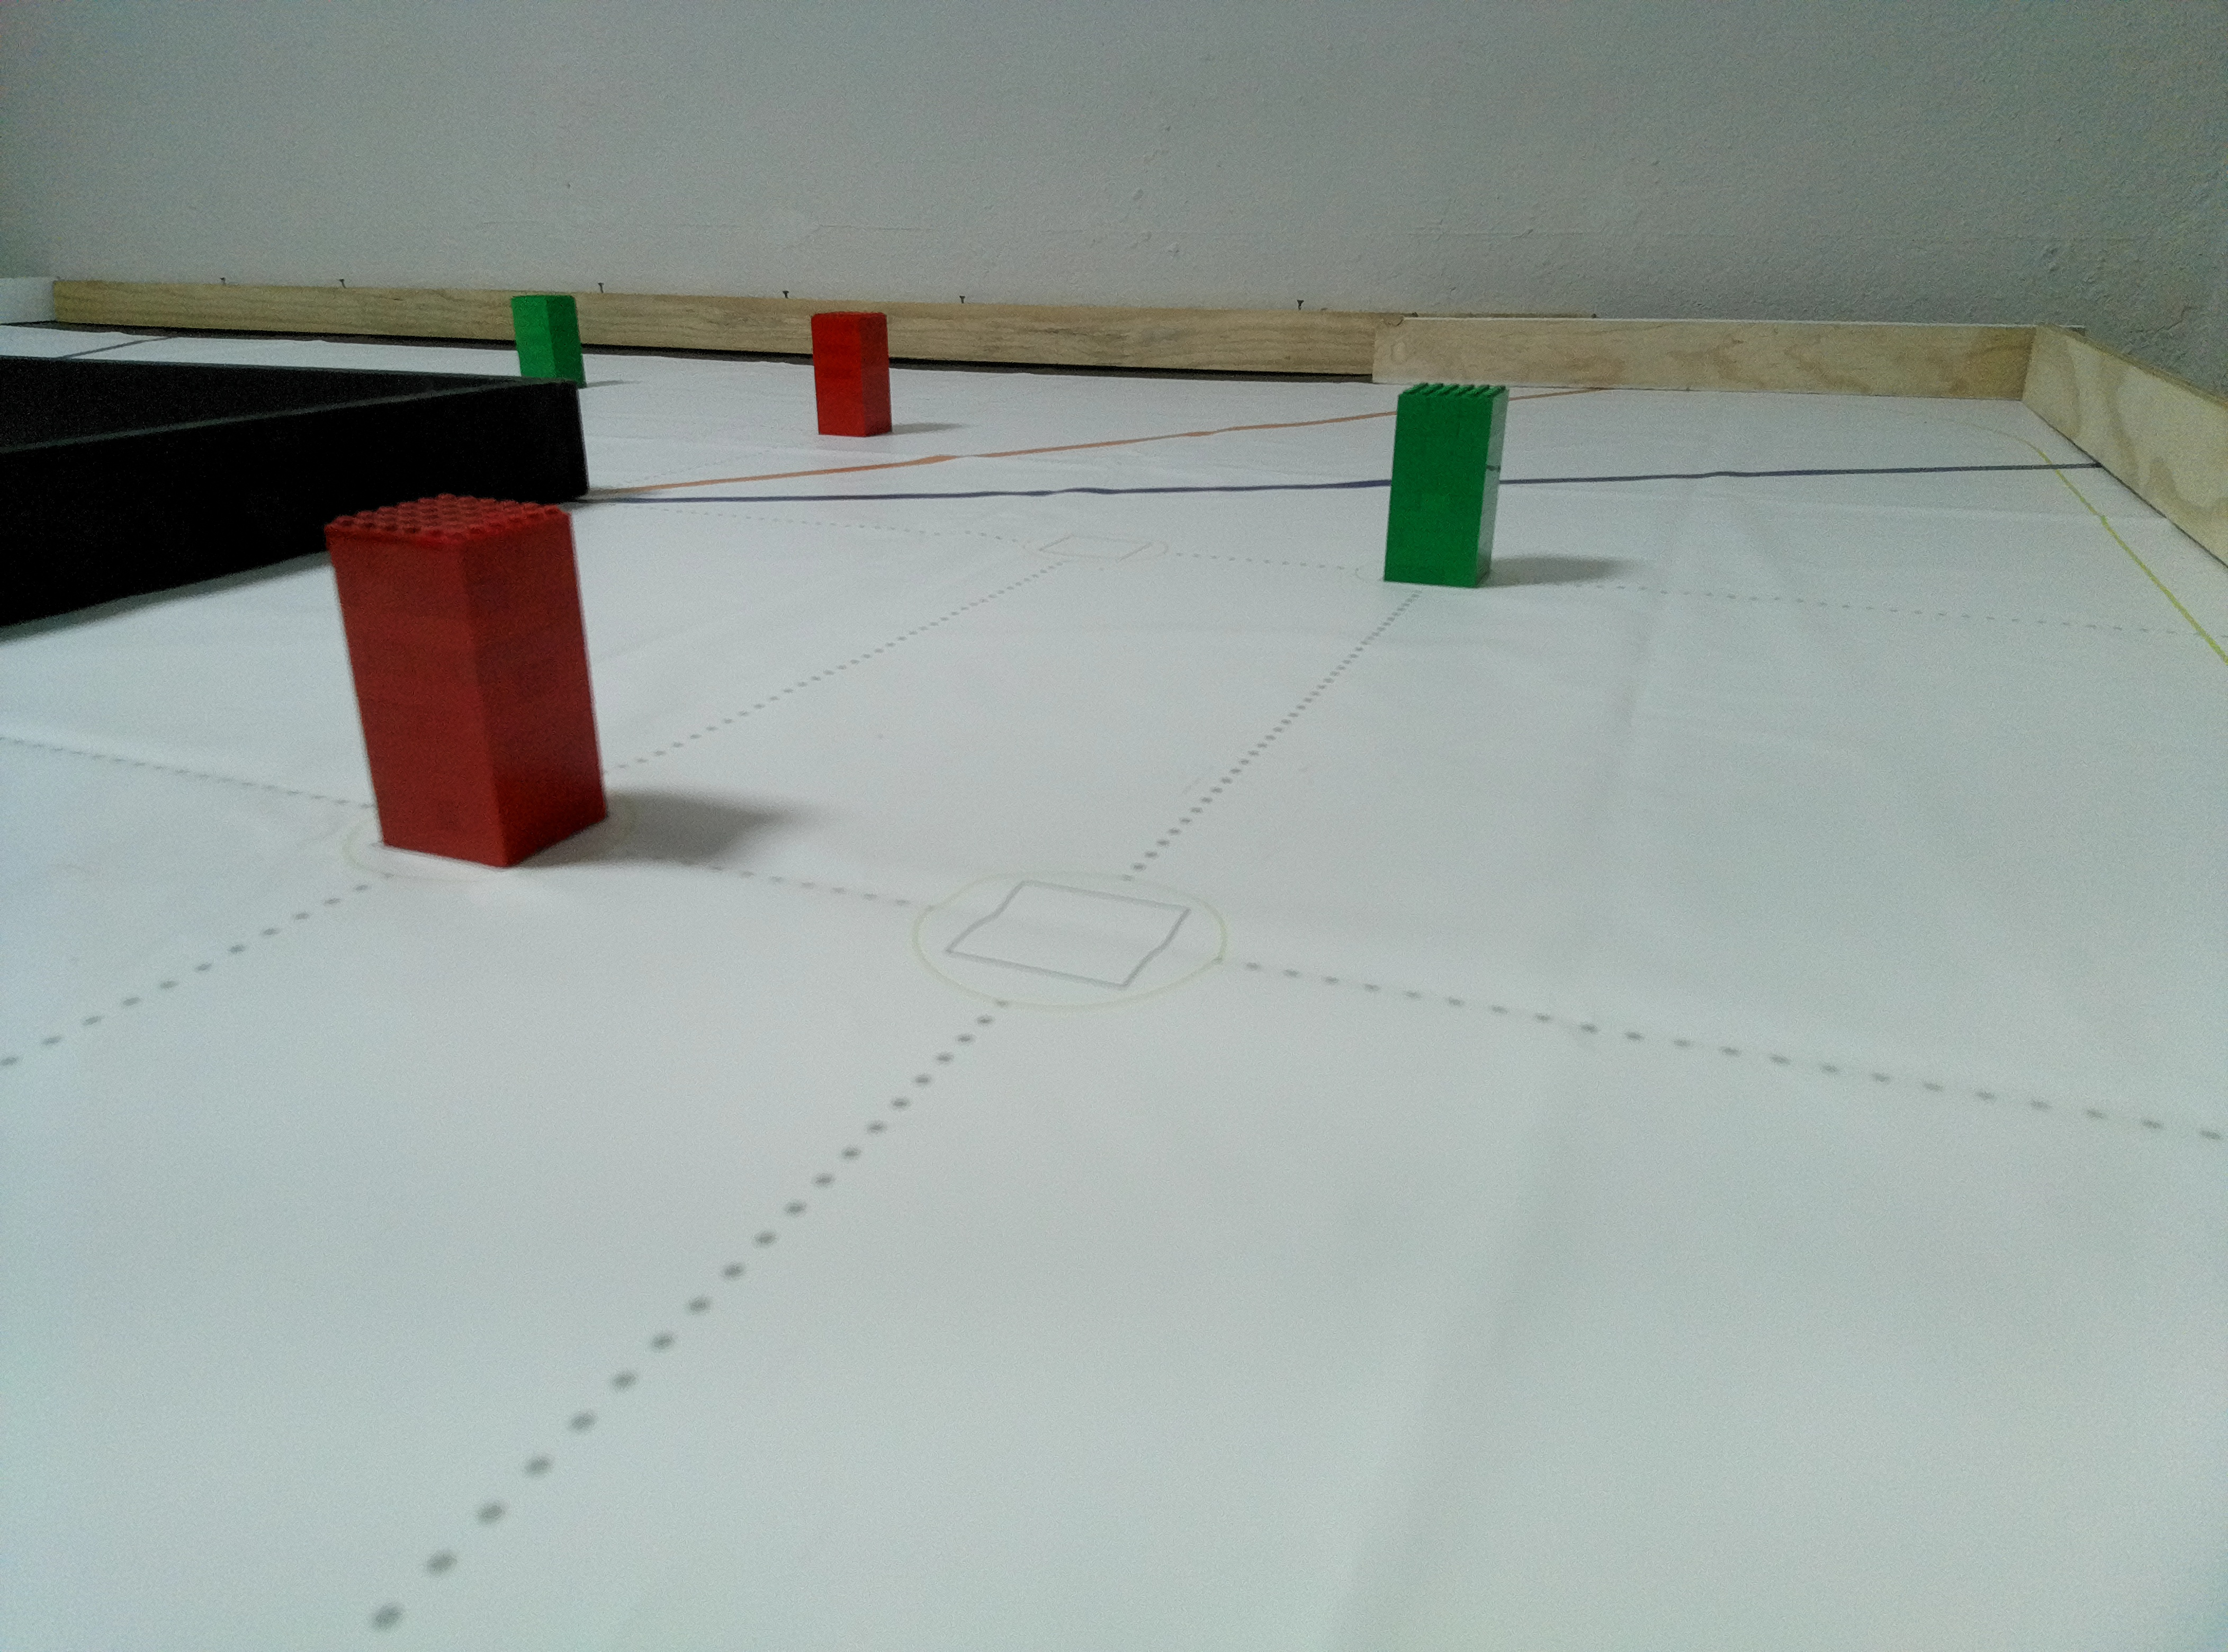greenbox: (1381, 380, 1513, 592), (508, 293, 590, 390)
redbox: (321, 488, 616, 868), (809, 311, 895, 439)
